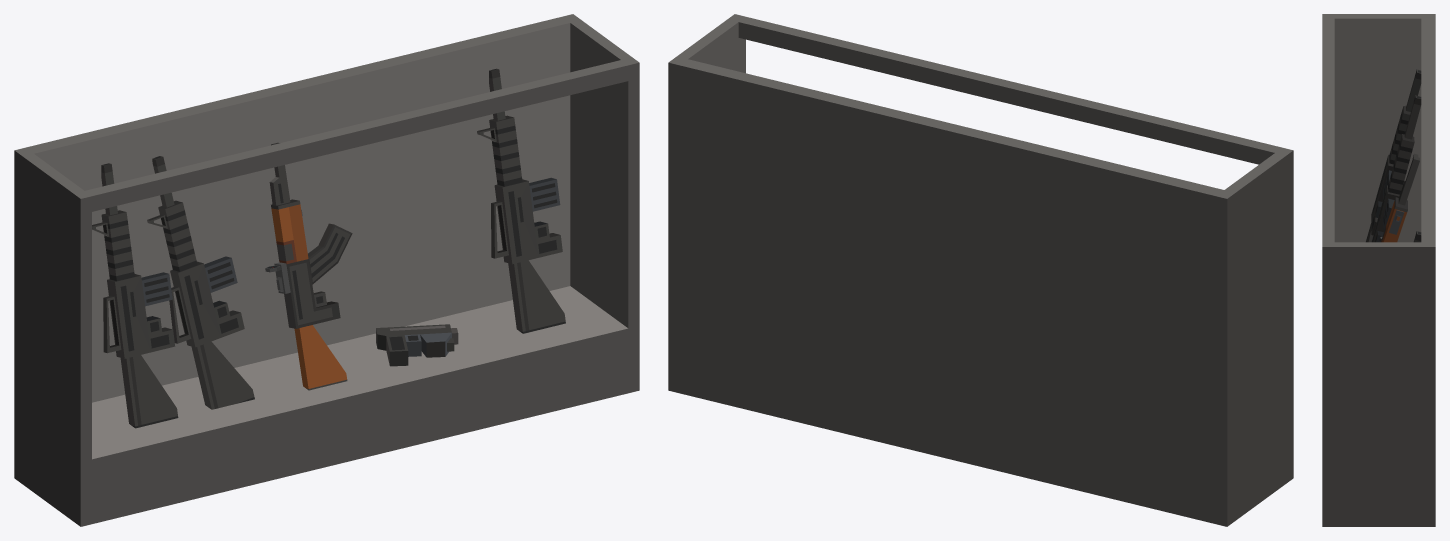
File: AI_Prop_Guns_Cabinet_03.fbx
The picture shows the model from 3 angles, left to right: view 1: azimuth 30°, elevation 25°; view 2: azimuth 150°, elevation 25°; view 3: azimuth 270°, elevation 25°; orthographic projection. The views are drawn at different scales.
Parts seen in each view (by area): view 1: AI_Prop_Guns_Cabinet_03; view 2: AI_Prop_Guns_Cabinet_03; view 3: AI_Prop_Guns_Cabinet_03.
Boxes of the visible parts, left/top/right/bottom form: AI_Prop_Guns_Cabinet_03: left=14, top=14, right=639, bottom=526; AI_Prop_Guns_Cabinet_03: left=668, top=14, right=1293, bottom=526; AI_Prop_Guns_Cabinet_03: left=1322, top=14, right=1435, bottom=526.
Bounding box in the file's own units: 4.85 × 2.72 × 0.9983.
